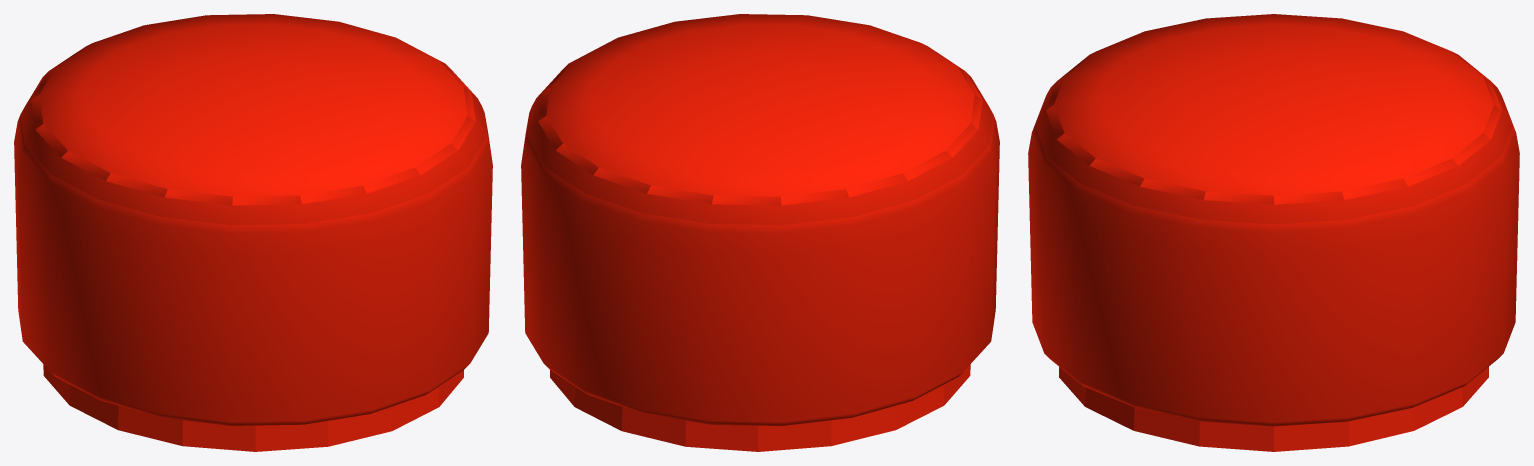
Rendered from Pouf1.FBX.
3 views of the same model, side by side, from view 1: azimuth 30°, elevation 25°; view 2: azimuth 150°, elevation 25°; view 3: azimuth 270°, elevation 25° (orthographic).
Parts seen in each view (by area): view 1: Pouf1; view 2: Pouf1; view 3: Pouf1.
Part boxes in pixels (x1,y1,x2,y2): Pouf1: (14,14,492,451); Pouf1: (521,14,999,451); Pouf1: (1028,14,1519,451).
Size of the model in its own units: 35.06 by 21.93 by 35.84.
